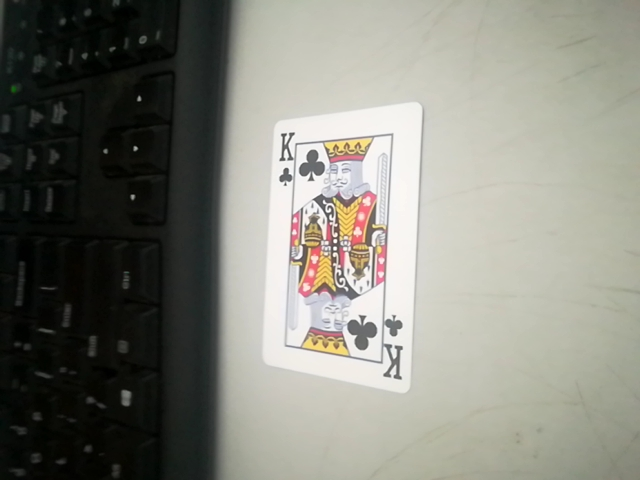mh k: (260, 109, 419, 390)
